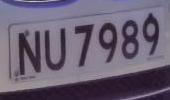7: (71, 19, 98, 73)
8: (118, 14, 143, 64)
9: (94, 18, 120, 67), (139, 11, 163, 61)
N: (16, 24, 43, 82)
U: (42, 22, 70, 77)
